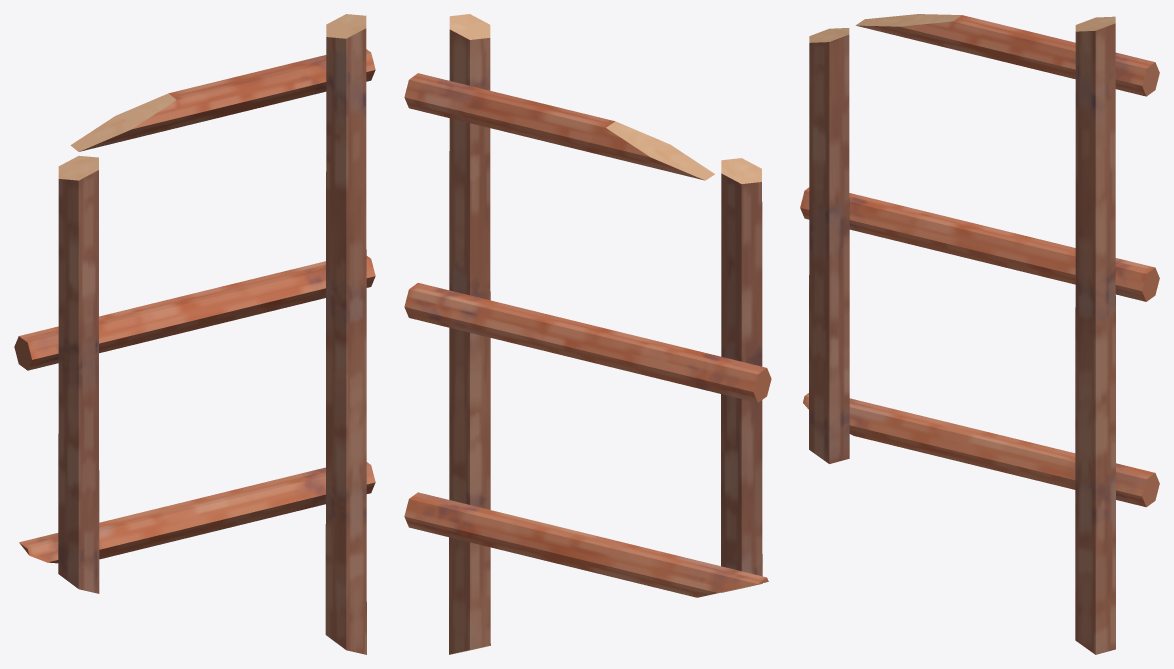
The model's file is ladder_s00.fbx.
3 renders of one model, left to right at view 1: azimuth 30°, elevation 25°; view 2: azimuth 150°, elevation 25°; view 3: azimuth 330°, elevation 25°, orthographic. The views are drawn at different scales.
Parts seen in each view (by area): view 1: ladder_s00; view 2: ladder_s00; view 3: ladder_s00.
Boxes of the visible parts, left/top/right/bottom form: ladder_s00: left=14, top=14, right=375, bottom=654; ladder_s00: left=404, top=14, right=771, bottom=654; ladder_s00: left=800, top=14, right=1159, bottom=654.
Size of the model in its own units: 2.44 by 4.27 by 0.4526.
